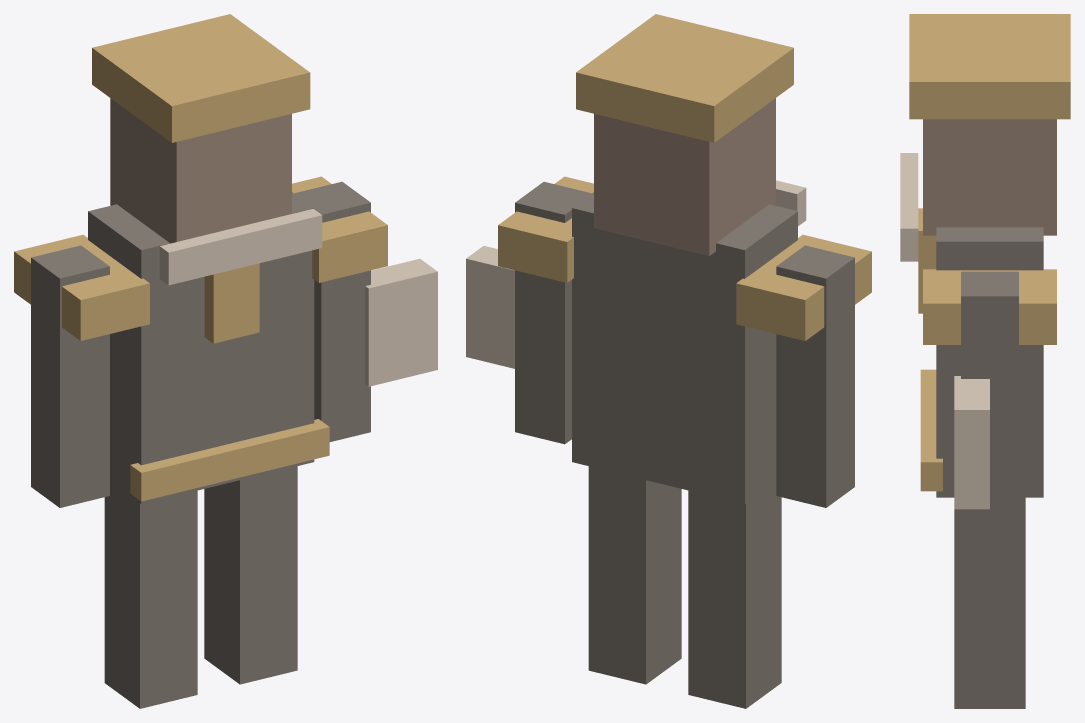
Rendered from 18_calder_gantryn_oracle_from_avalanche.glb.
The picture shows the model from 3 angles, left to right: view 1: azimuth 30°, elevation 25°; view 2: azimuth 150°, elevation 25°; view 3: azimuth 270°, elevation 25°; orthographic projection.
Visible parts, largest first — view 1: Calder Gantryn, Oracle from Avalanche; view 2: Calder Gantryn, Oracle from Avalanche; view 3: Calder Gantryn, Oracle from Avalanche.
Boxes of the visible parts, x1,y1,x2,y2 form: Calder Gantryn, Oracle from Avalanche: (14, 14, 437, 708); Calder Gantryn, Oracle from Avalanche: (466, 14, 871, 708); Calder Gantryn, Oracle from Avalanche: (900, 14, 1070, 708).
Size of the model in its own units: 1.01 by 1.59 by 0.3941.
